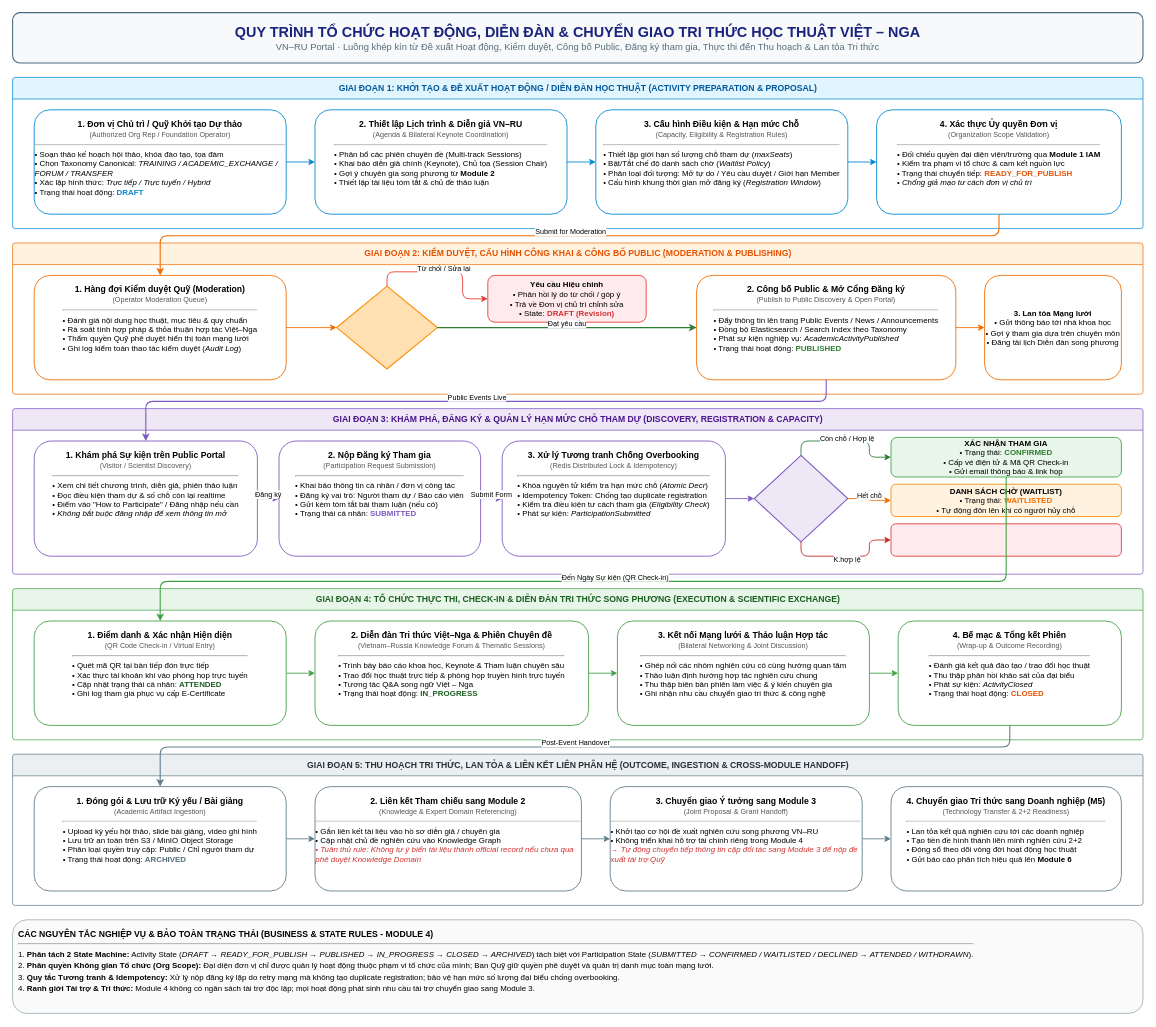
This 1156x1027 diagram has some shape labels left out. The box of each missing label's shape, as (x1, y1, x2, y2) in pixels:
Hạn mức & Điều kiện?: (753, 455, 848, 542)
Kiểm duyệt Thông qua?: (336, 285, 438, 369)
TỪ CHỐI ĐĂNG KÝ • Trạng thái: DECLINED (Không đủ điều kiện / Hết chỗ): (890, 523, 1121, 556)
